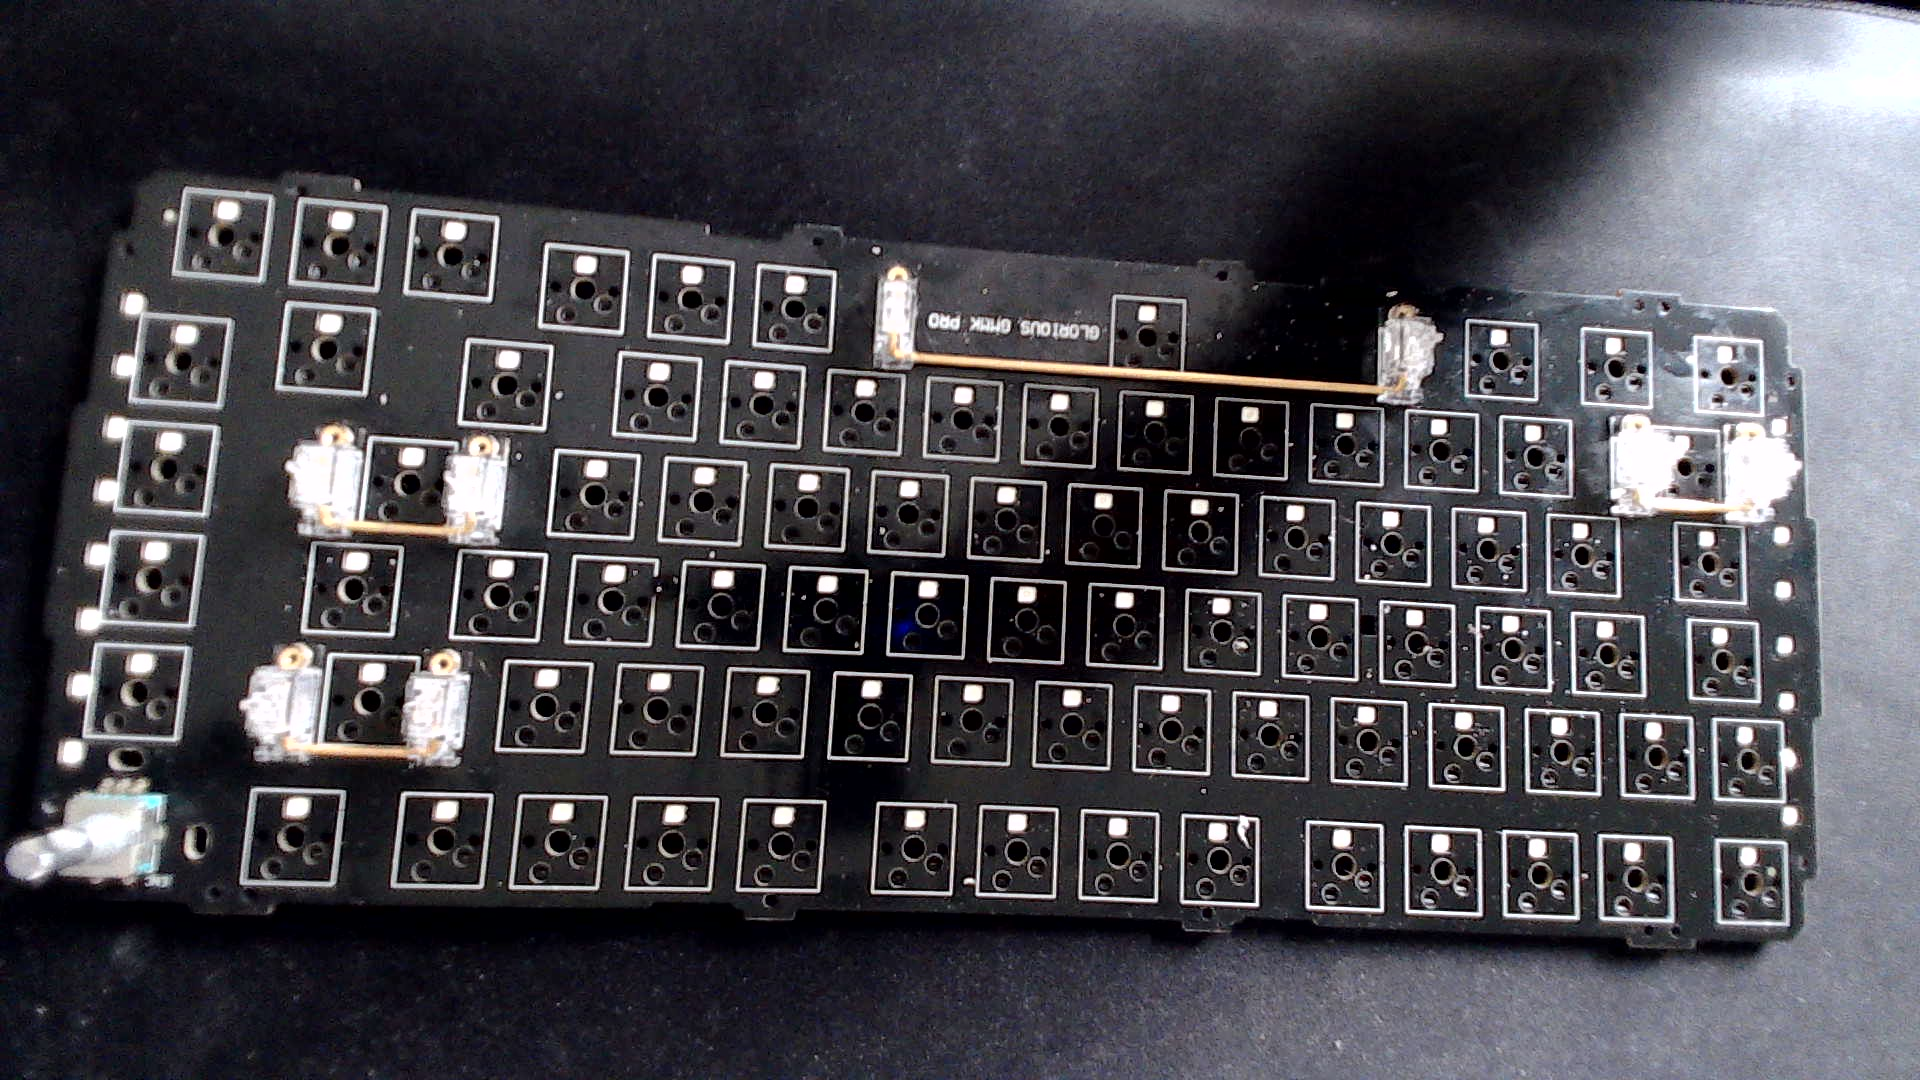pcb: (1, 161, 1859, 963)
